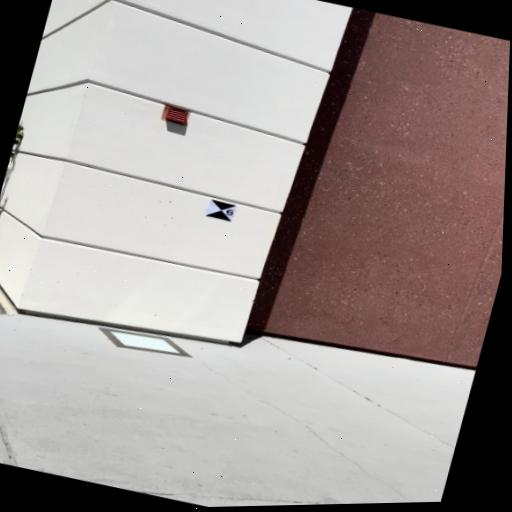target6: (205, 199, 236, 222)
